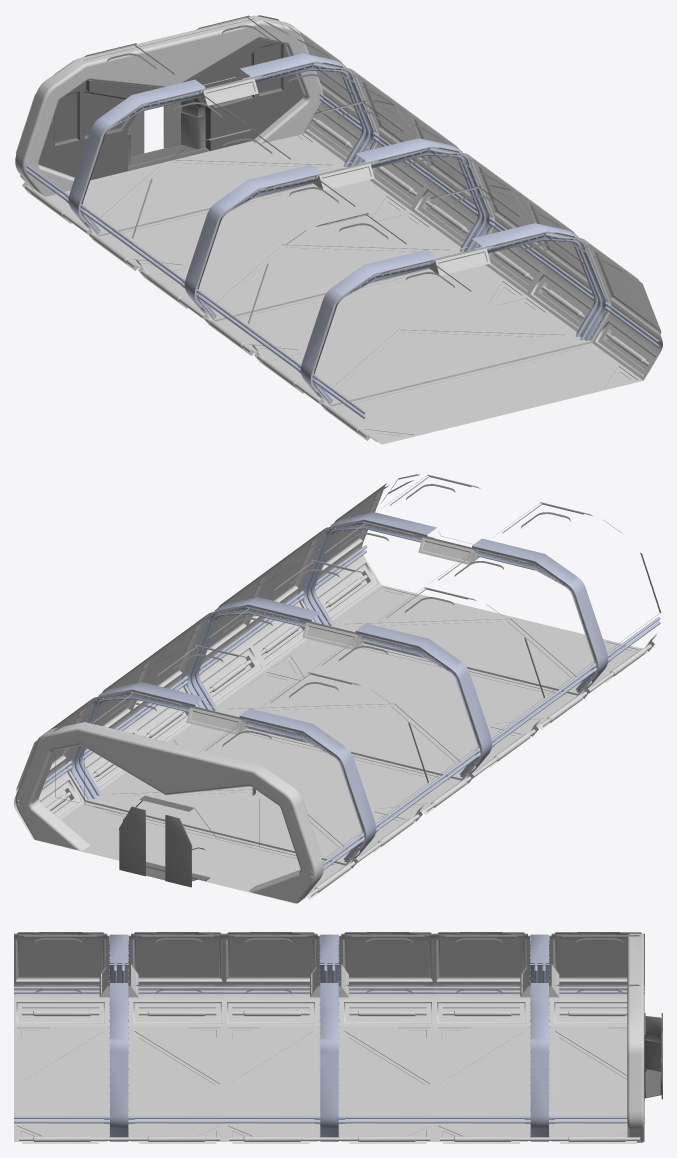
3 renders of one model, top to bottom at view 1: azimuth 30°, elevation 25°; view 2: azimuth 150°, elevation 25°; view 3: azimuth 270°, elevation 25°, orthographic. The views are drawn at different scales.
Visible parts, largest first — view 1: Floor, Room, Pillars, Door, Pillar, Red_Lights, Top_Lights, Right_Door; view 2: Floor, Room, Pillars, Pillar, Red_Lights, Left_Door, Right_Door, Top_Lights, Door; view 3: Floor, Room, Pillars, Red_Lights, Pillar, Door, Top_Lights.
Boxes of the visible parts, box(x1,y1,x2,y2) form: Floor: box(45, 133, 642, 444); Room: box(15, 15, 662, 442); Pillars: box(26, 53, 659, 419); Door: box(18, 18, 303, 180); Pillar: box(15, 15, 323, 196); Red_Lights: box(25, 117, 649, 437); Top_Lights: box(107, 25, 569, 288); Right_Door: box(163, 102, 181, 148); Floor: box(34, 585, 641, 903); Room: box(14, 474, 661, 900); Pillars: box(17, 512, 660, 878); Pillar: box(15, 722, 323, 903); Red_Lights: box(46, 575, 651, 896); Left_Door: box(165, 815, 192, 887); Right_Door: box(119, 806, 145, 876); Top_Lights: box(107, 484, 570, 747); Door: box(55, 750, 283, 881); Floor: box(14, 1026, 644, 1141); Room: box(14, 932, 644, 1143); Pillars: box(14, 934, 644, 1141); Red_Lights: box(19, 1010, 640, 1141); Pillar: box(627, 933, 644, 1142); Door: box(644, 1013, 661, 1101); Top_Lights: box(35, 938, 623, 994).
Size of the model in its own units: 5.92 by 2.39 by 12.18.
